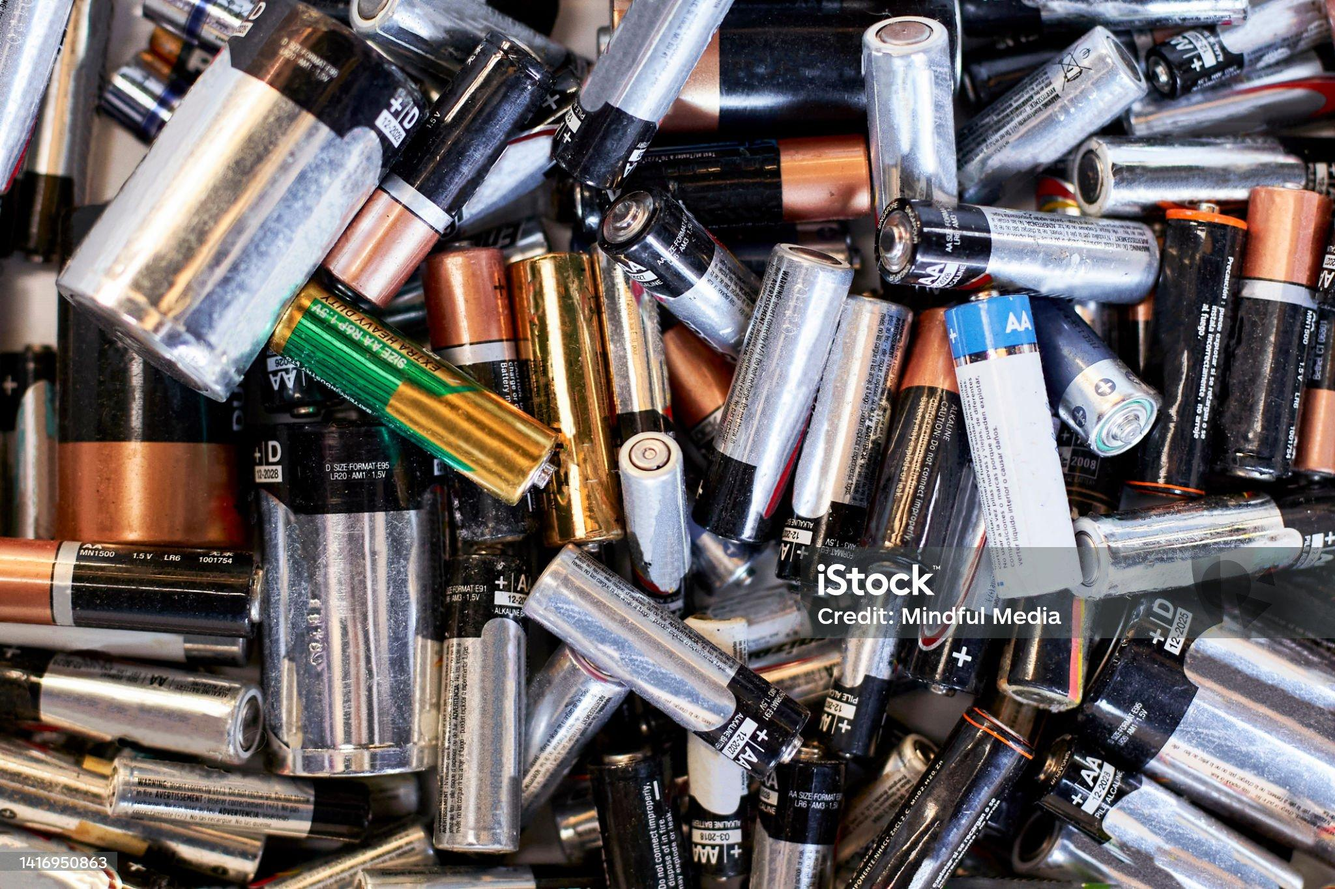battery: (83, 0, 387, 421), (222, 396, 460, 805), (281, 287, 566, 494), (837, 0, 1035, 244), (848, 161, 1181, 303)
